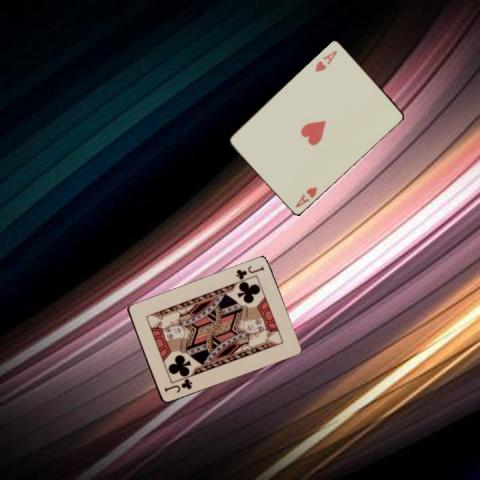Ah: (312, 47, 339, 73), (292, 184, 319, 209)
Jc: (162, 376, 194, 394), (233, 263, 265, 281)
